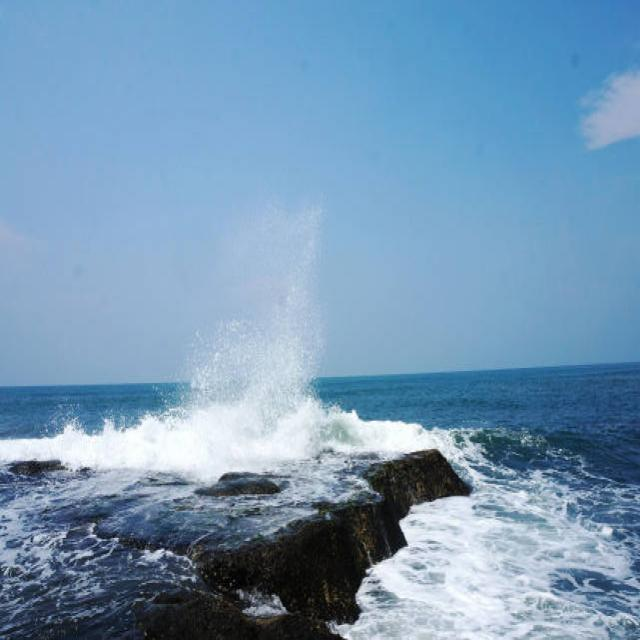reef: (124, 397, 495, 640)
